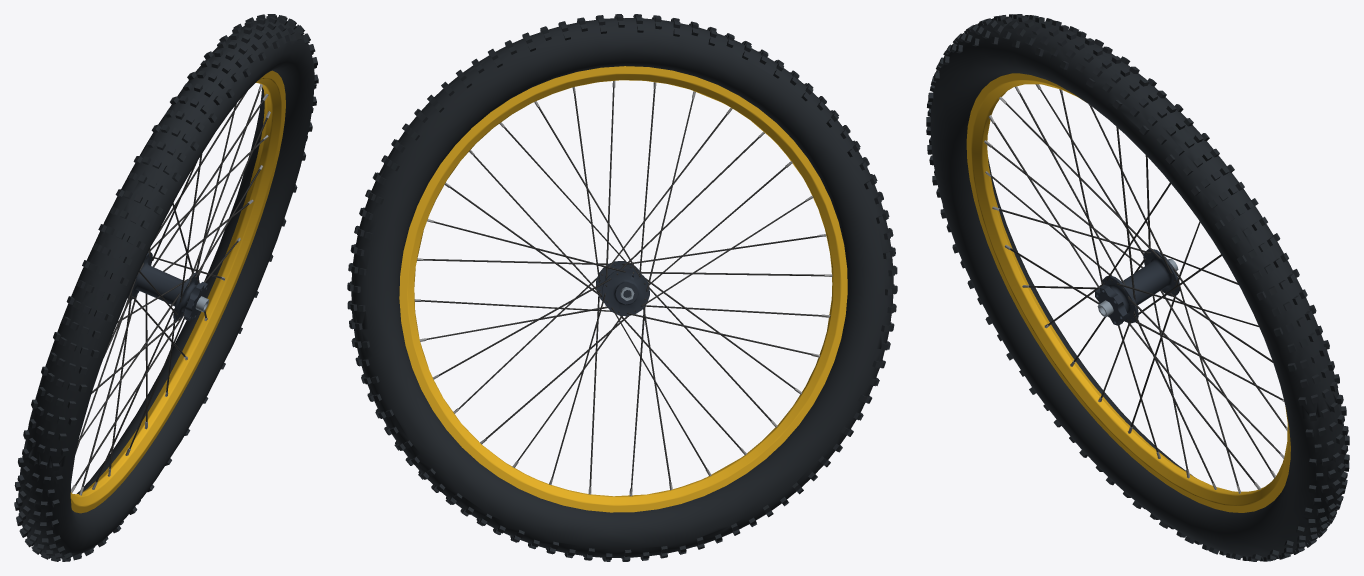
File: front_wheel_LOD0.fbx
3 renders of one model, left to right at view 1: azimuth 30°, elevation 25°; view 2: azimuth 150°, elevation 25°; view 3: azimuth 270°, elevation 25°, orthographic. The views are drawn at different scales.
Visible parts, largest first — view 1: MM_carbon_n0322_tire, MM_carbon_n0319_rim, MM_carbon_n0327_hub, MM_carbon_n0422_spokes, MM_carbon_n0408_spokes, MM_carbon_n0370_spokes, MM_carbon_n0344_spokes, MM_carbon_n0452_spokes, MM_carbon_n0384_spokes, MM_carbon_n0434_spokes, MM_carbon_n0388_spokes, MM_carbon_n0456_spokes; view 2: MM_carbon_n0322_tire, MM_carbon_n0319_rim, MM_carbon_n0327_hub; view 3: MM_carbon_n0322_tire, MM_carbon_n0319_rim, MM_carbon_n0327_hub.
Boxes of the visible parts, x1,y1,x2,y2 form: MM_carbon_n0322_tire: [14, 14, 318, 561]; MM_carbon_n0319_rim: [70, 70, 285, 513]; MM_carbon_n0327_hub: [127, 252, 208, 321]; MM_carbon_n0422_spokes: [187, 91, 259, 286]; MM_carbon_n0408_spokes: [75, 314, 184, 485]; MM_carbon_n0370_spokes: [152, 100, 263, 266]; MM_carbon_n0344_spokes: [82, 294, 137, 486]; MM_carbon_n0452_spokes: [95, 308, 177, 482]; MM_carbon_n0384_spokes: [109, 292, 132, 468]; MM_carbon_n0434_spokes: [195, 103, 236, 273]; MM_carbon_n0388_spokes: [75, 279, 136, 453]; MM_carbon_n0456_spokes: [78, 293, 183, 443]; MM_carbon_n0322_tire: [347, 14, 897, 561]; MM_carbon_n0319_rim: [399, 66, 847, 512]; MM_carbon_n0327_hub: [596, 261, 649, 316]; MM_carbon_n0322_tire: [926, 14, 1349, 561]; MM_carbon_n0319_rim: [966, 73, 1290, 512]; MM_carbon_n0327_hub: [1095, 249, 1179, 325].
Bounding box in the file's own units: 0.6101 × 0.7102 × 0.5016.
